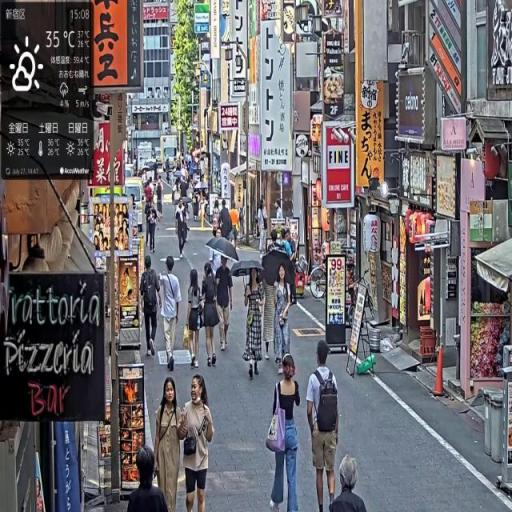person: (266, 354, 304, 512), (308, 341, 343, 512), (180, 374, 216, 512), (153, 376, 187, 512), (127, 442, 171, 512), (160, 255, 184, 373), (244, 266, 268, 380), (200, 262, 223, 371), (141, 252, 163, 362), (329, 454, 369, 512), (273, 264, 294, 371), (215, 256, 236, 355), (186, 268, 206, 370), (175, 200, 190, 261)
